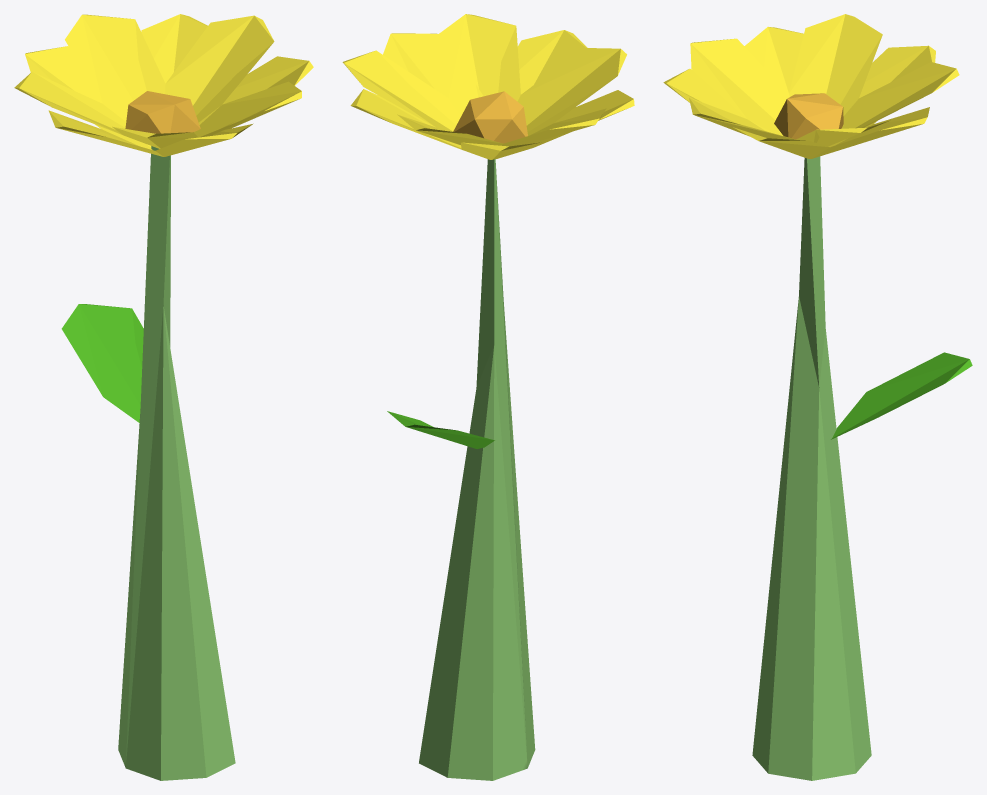
The model's file is margarita2.obj.
3 views of the same model, side by side, from view 1: azimuth 30°, elevation 25°; view 2: azimuth 150°, elevation 25°; view 3: azimuth 270°, elevation 25° (orthographic). The views are drawn at different scales.
Parts seen in each view (by area): view 1: Cube; view 2: Cube; view 3: Cube.
Boxes of the visible parts, left/top/right/bottom form: Cube: left=14, top=14, right=313, bottom=780; Cube: left=342, top=14, right=634, bottom=780; Cube: left=663, top=14, right=972, bottom=780.
Size of the model in its own units: 0.3535 by 0.9304 by 0.384.
